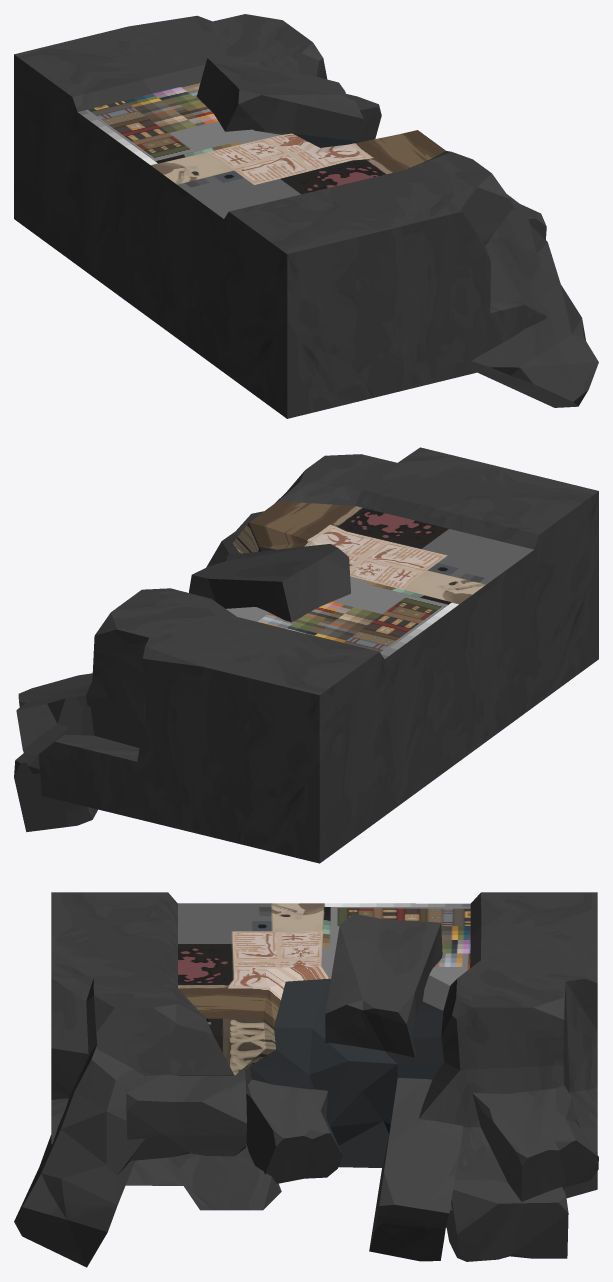
Rendered from isle_bridge_broken.gltf.
3 renders of one model, top to bottom at view 1: azimuth 30°, elevation 25°; view 2: azimuth 150°, elevation 25°; view 3: azimuth 270°, elevation 25°, orthographic. The views are drawn at different scales.
Parts seen in each view (by area): view 1: isle_bridge_broken; view 2: isle_bridge_broken; view 3: isle_bridge_broken.
Boxes of the visible parts, x1,y1,x2,y2 form: isle_bridge_broken: [14, 14, 598, 418]; isle_bridge_broken: [14, 447, 598, 863]; isle_bridge_broken: [14, 892, 598, 1267].
Size of the model in its own units: 3.59 by 2.68 by 5.35.
2 materials, 2 textured.
